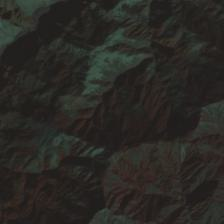landslides: (139, 159, 152, 171), (202, 111, 214, 122), (198, 120, 219, 126), (112, 159, 121, 172)
